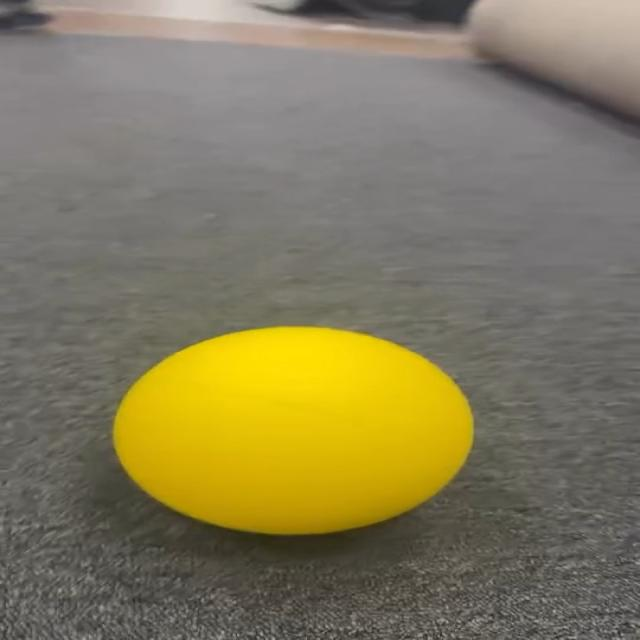Fuels: (114, 327, 471, 533)
